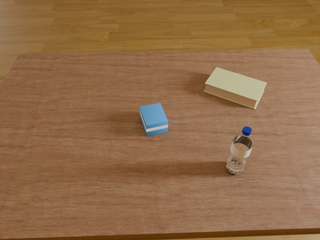book: (204, 67, 266, 109)
bottle: (226, 127, 253, 175)
box: (140, 103, 168, 136)
